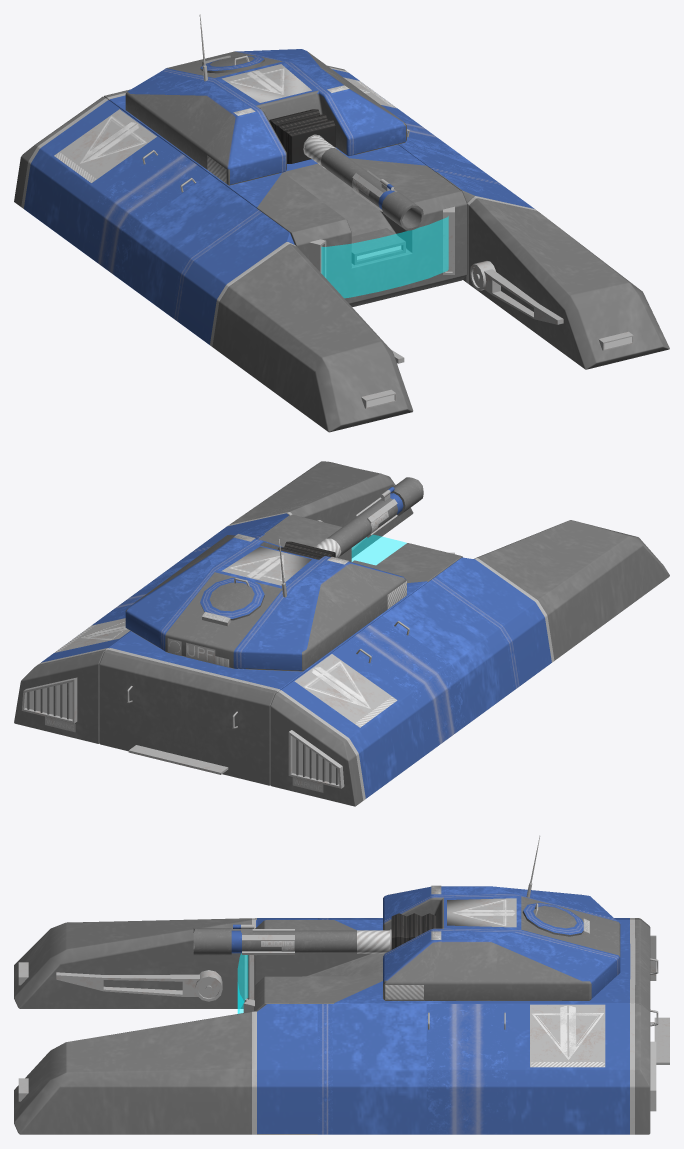
Rendered from SM_UPF-Tank_MT-I.fbx.
3 renders of one model, top to bottom at view 1: azimuth 30°, elevation 25°; view 2: azimuth 150°, elevation 25°; view 3: azimuth 270°, elevation 25°, orthographic.
Visible parts, largest first — view 1: BodySide, Body, TurretBody, Shield, BodySide.001, Barrel, TurretBody.001, BarrelConnector, Legs, Window, FrontShieldConnector, FrontLights (+2 smaller); view 2: BodySide, Body, TurretBody, BodySide.001, Thrusters, TurretBody.001, Barrel, Hatch, ThrusterGrid, Shield, BackPlaftform, BarrelConnector; view 3: BodySide, TurretBody, Body, BodySide.001, Barrel, TurretBody.001, Legs, Hatch, BarrelConnector, Barrel.001, Thrusters, BackPlaftform (+3 smaller).
Part boxes in pixels (x1,y1,x2,y2): BodySide: (14,65,669,432); Body: (104,89,467,307); TurretBody: (125,49,406,185); Shield: (321,216,448,297); BodySide.001: (54,77,396,182); Barrel: (303,134,423,230); TurretBody.001: (207,64,406,183); BarrelConnector: (269,109,335,163); Legs: (391,261,563,363); Window: (351,228,405,264); FrontShieldConnector: (309,206,454,277); FrontLights: (361,331,633,408); BodySide: (14,461,669,806); Body: (99,514,462,785); TurretBody: (125,534,406,671); BodySide.001: (45,618,397,792); Thrusters: (21,677,344,788); TurretBody.001: (167,534,406,667); Barrel: (327,477,423,555); Hatch: (200,578,264,626); ThrusterGrid: (27,683,338,784); Shield: (352,535,406,564); BackPlaftform: (128,745,228,774); BarrelConnector: (278,541,335,559); BodySide: (14,918,650,1134); TurretBody: (383,886,620,1000); Body: (254,920,650,1012); BodySide.001: (530,1004,605,1067); Barrel: (193,928,391,955); TurretBody.001: (385,885,516,999); Legs: (56,970,222,1001); Hatch: (522,903,589,936); BarrelConnector: (391,913,436,949); Barrel.001: (261,930,389,953); Thrusters: (650,935,656,1111); BackPlaftform: (650,1017,669,1064).
Size of what is drawn, in the model's own units: 779 by 434 by 1292.
